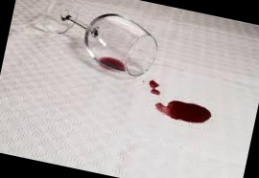wine: (140, 85, 222, 132), (147, 75, 165, 96)
